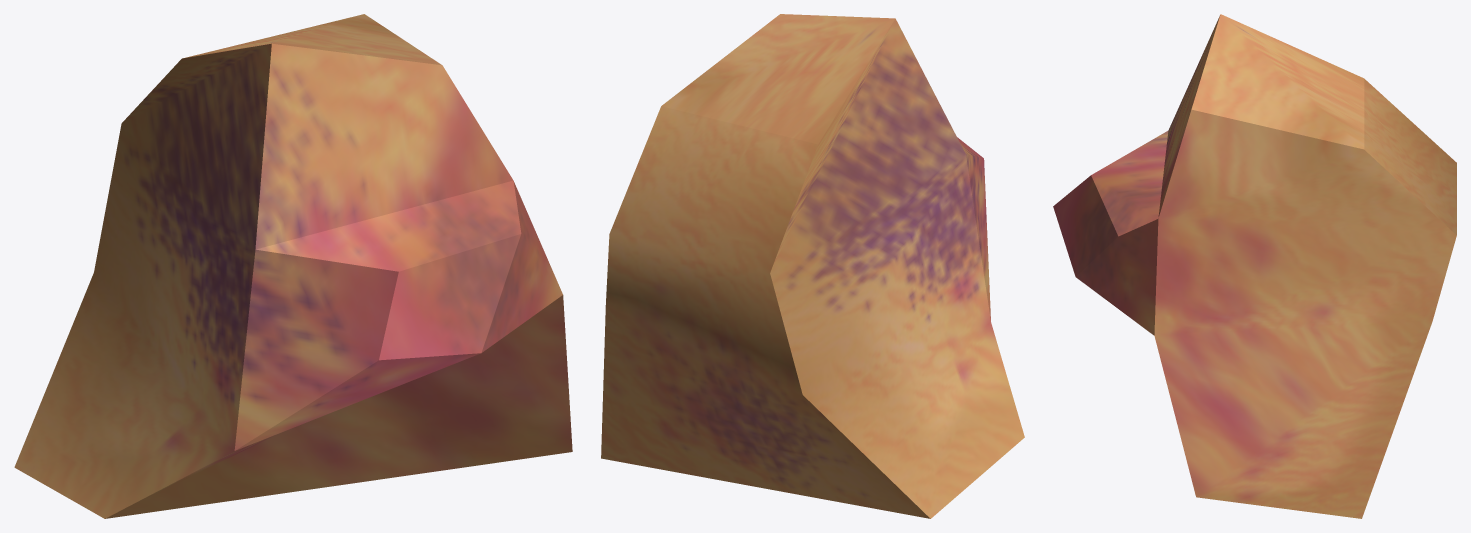
File: Rock_Two.fbx
3 renders of one model, left to right at view 1: azimuth 30°, elevation 25°; view 2: azimuth 150°, elevation 25°; view 3: azimuth 270°, elevation 25°, orthographic. The views are drawn at different scales.
Visible parts, largest first — view 1: pCube2; view 2: pCube2; view 3: pCube2.
Boxes of the visible parts, x1,y1,x2,y2 form: pCube2: (14,14,572,518); pCube2: (601,14,1024,518); pCube2: (1053,14,1456,518).
Size of the model in its own units: 1.13 by 1.24 by 1.12.
Materials: 1 (1 with a texture image).
